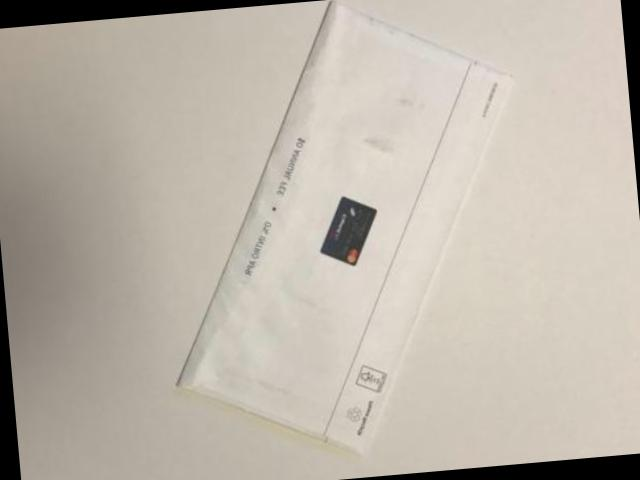cardboard paper: (179, 0, 511, 450)
